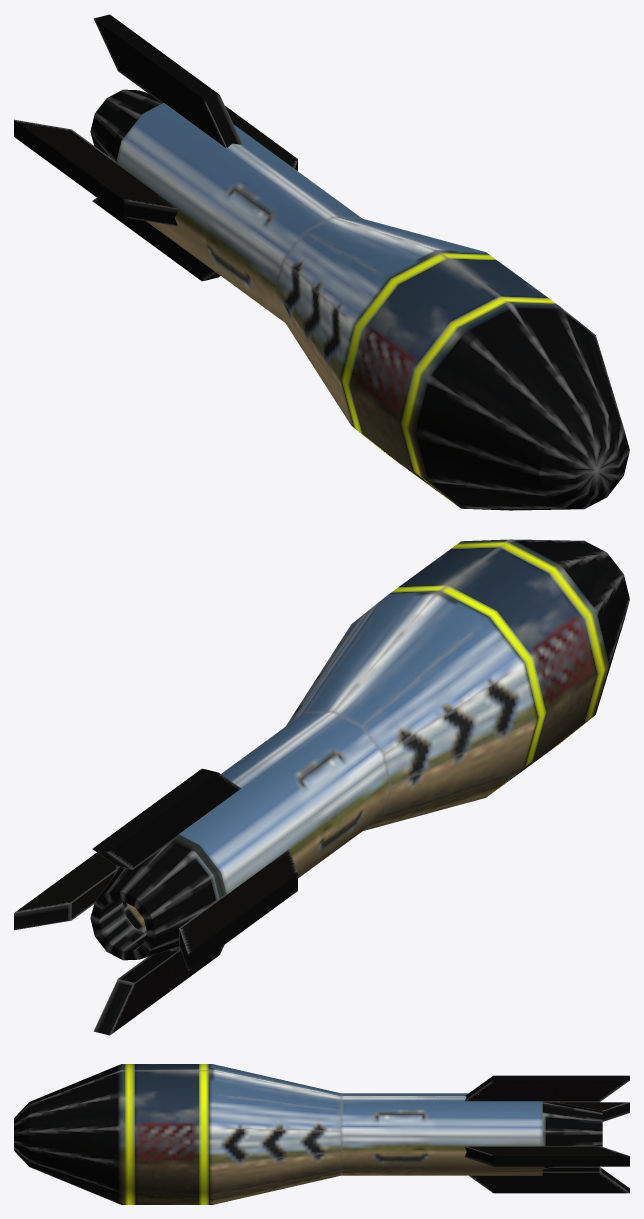
Rendered from missile.FBX.
The picture shows the model from 3 angles, top to bottom: view 1: azimuth 30°, elevation 25°; view 2: azimuth 150°, elevation 25°; view 3: azimuth 270°, elevation 25°; orthographic projection. The views are drawn at different scales.
Parts seen in each view (by area): view 1: missile; view 2: missile; view 3: missile.
Part boxes in pixels (x1=…): missile: x1=14, y1=14, x2=629, y2=510; missile: x1=14, y1=539, x2=629, y2=1035; missile: x1=14, y1=1064, x2=629, y2=1204.
Size of the model in its own units: 4.76 by 4.76 by 20.73.
